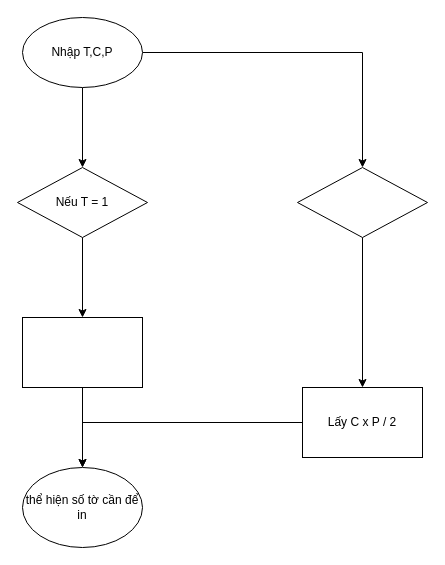
The diagram is 445 pixels wide and 565 high, and some of its shapes have lost their labels. The shapes that lost their labels are listed below. From the top down, each one's box as (x1, y1, x2, y2) in pixels, then its label:
(296, 166, 428, 238): Nếu T = 2
(22, 316, 142, 388): Lấy C x P
